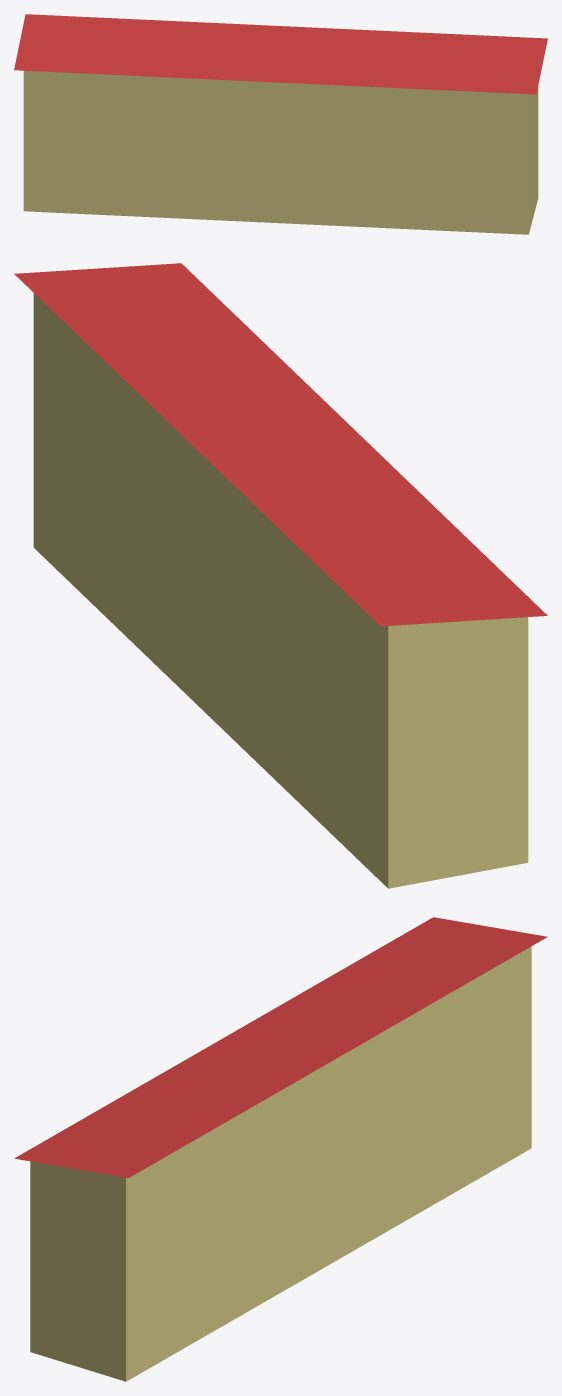
3 views of the same model, one above another, from view 1: azimuth 30°, elevation 25°; view 2: azimuth 150°, elevation 25°; view 3: azimuth 270°, elevation 25° (orthographic). The views are drawn at different scales.
Size of the model in its own units: 14.07 by 11.47 by 4.99.
